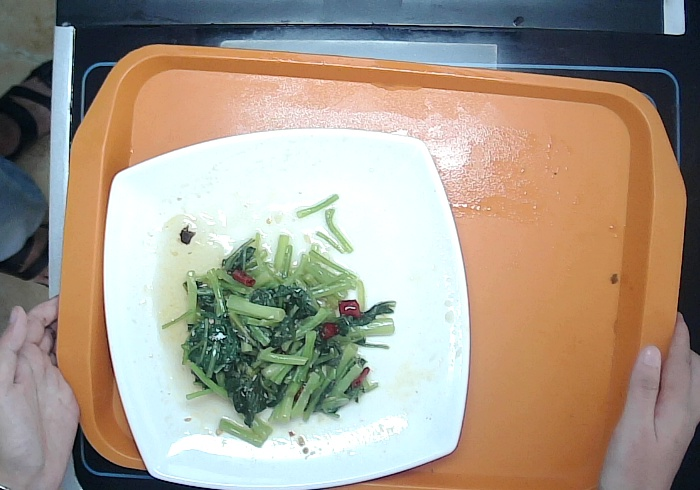ZNLD-Bai_Fang_Pan: (97, 125, 474, 490)
